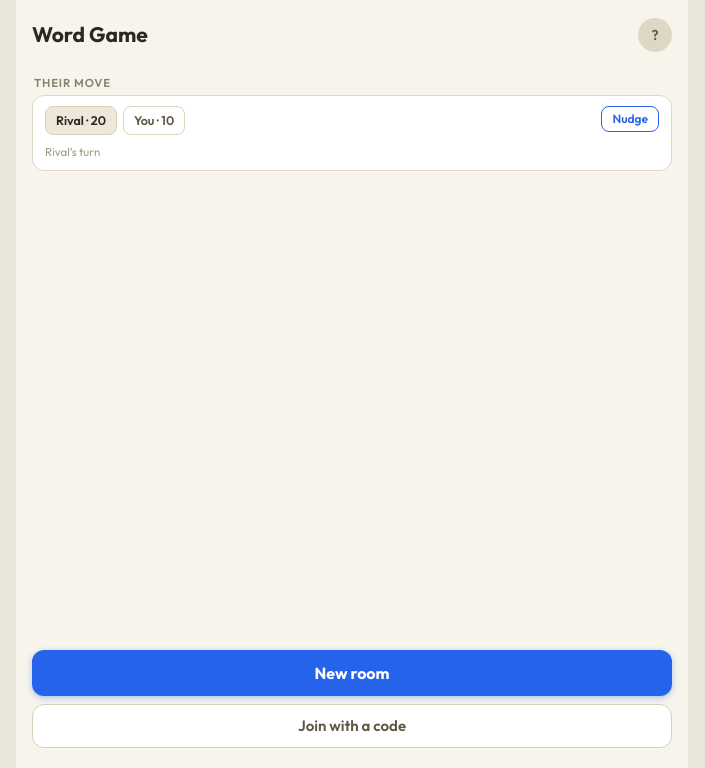
it: HomePage — nudging the player whose move it is › Nudge posts the seat to /notify/nudge, flips to Reminded, and does not open the room
The width and height of the screenshot is (705, 768).
What coordinates should you click on to do the following:
click the button "Nudge"
I would click on:
 (630, 119)
Its box is [601, 106, 659, 132].
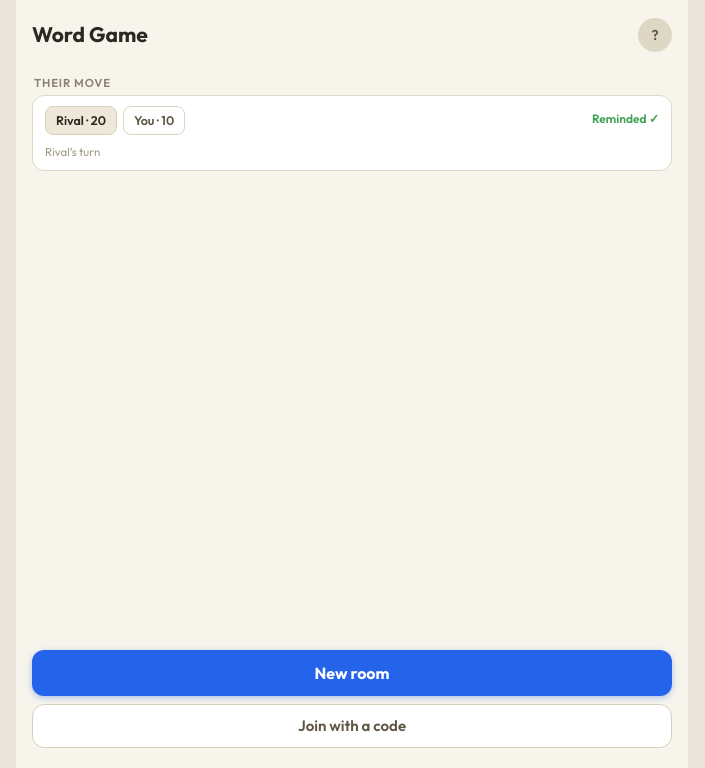
Result: the text with test id "nudge-done" reads "Reminded ✓" at [592, 111, 659, 126]
Result: the button "Nudge" is gone
